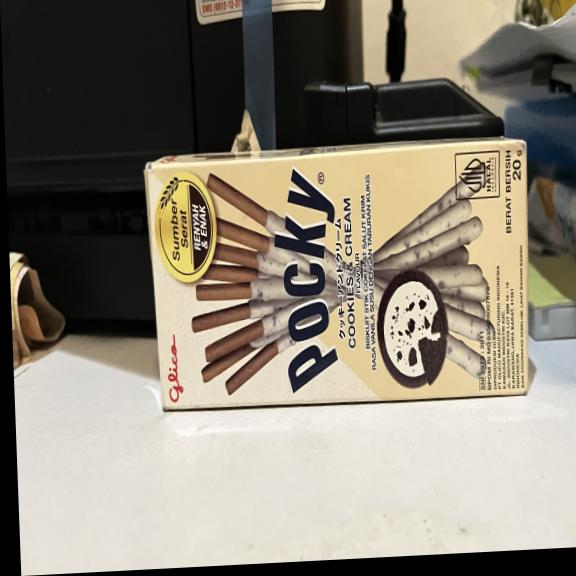Kertas: (148, 141, 529, 413)
